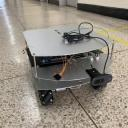cart: (22, 25, 116, 106)
